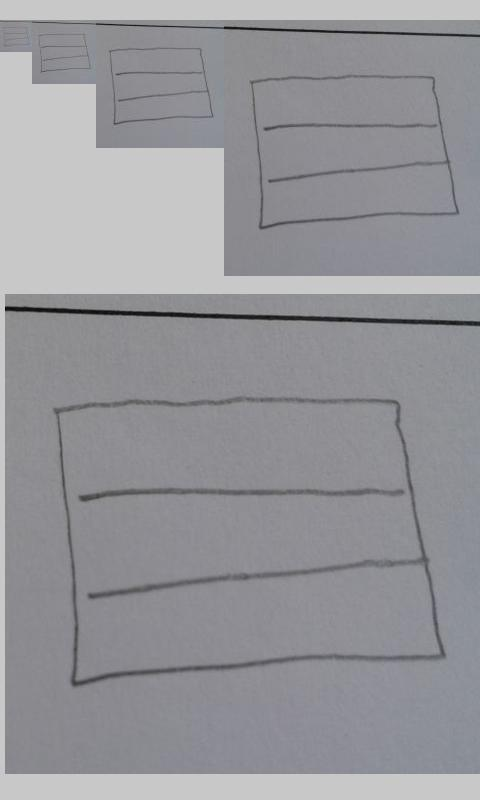list_view: (54, 395, 446, 685), (249, 73, 461, 230), (108, 47, 213, 125), (37, 32, 92, 73), (2, 26, 31, 48)
